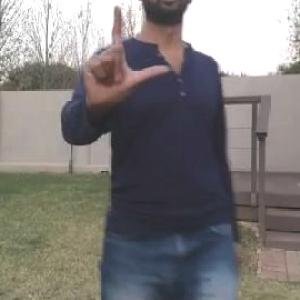land_hand: (77, 0, 172, 114)
